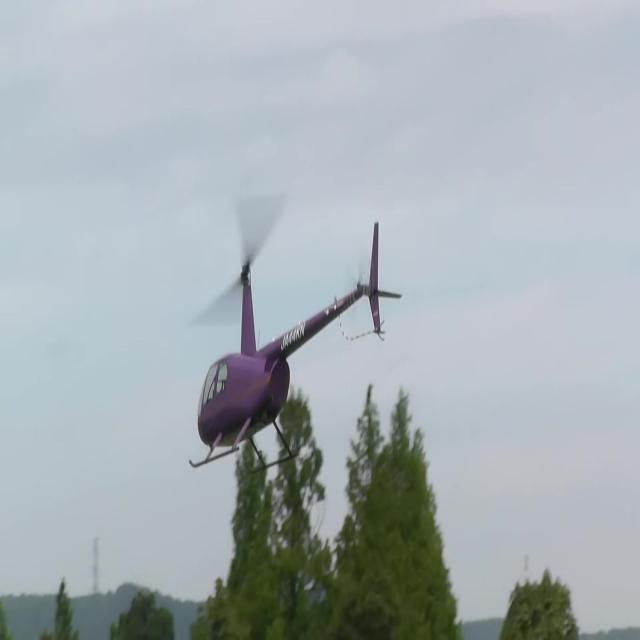CIV_HELO: (187, 221, 404, 478)
